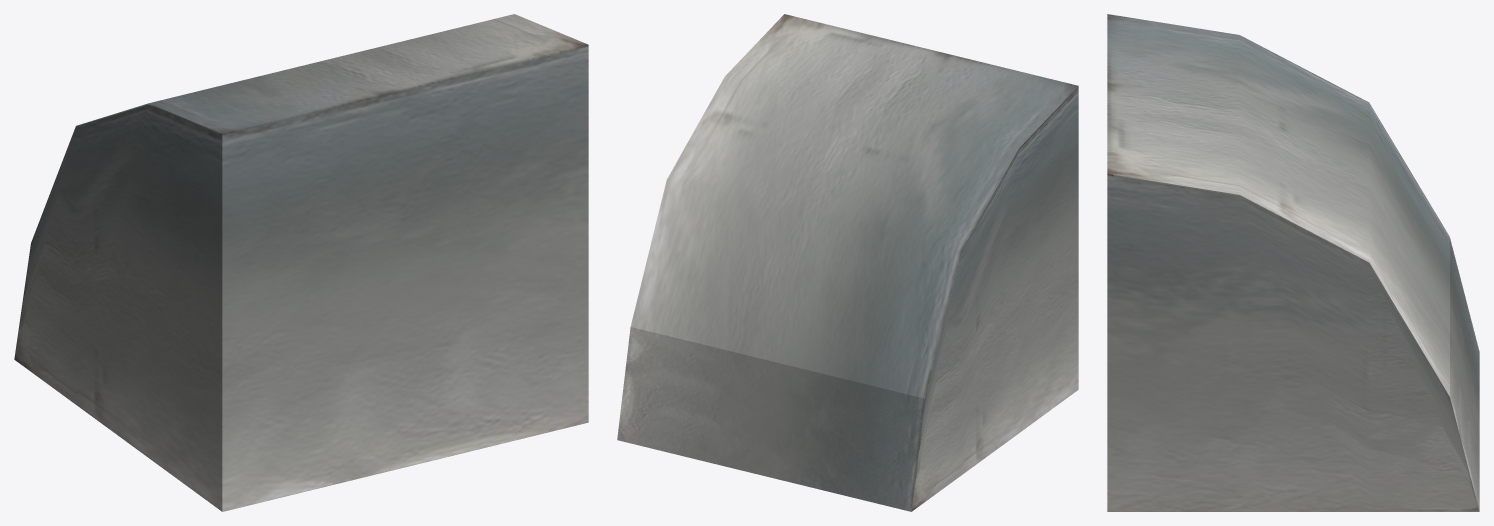
The model's file is Metal_duct_piece2.fbx.
3 views of the same model, side by side, from view 1: azimuth 30°, elevation 25°; view 2: azimuth 150°, elevation 25°; view 3: azimuth 270°, elevation 25° (orthographic). The views are drawn at different scales.
Parts seen in each view (by area): view 1: metal_duct_piece2; view 2: metal_duct_piece2; view 3: metal_duct_piece2.
Boxes of the visible parts, x1=… form: metal_duct_piece2: x1=14, y1=14, x2=588, y2=511; metal_duct_piece2: x1=617, y1=14, x2=1078, y2=511; metal_duct_piece2: x1=1107, y1=14, x2=1479, y2=511.
Size of the model in its own units: 1.02 by 1.01 by 1.01.
